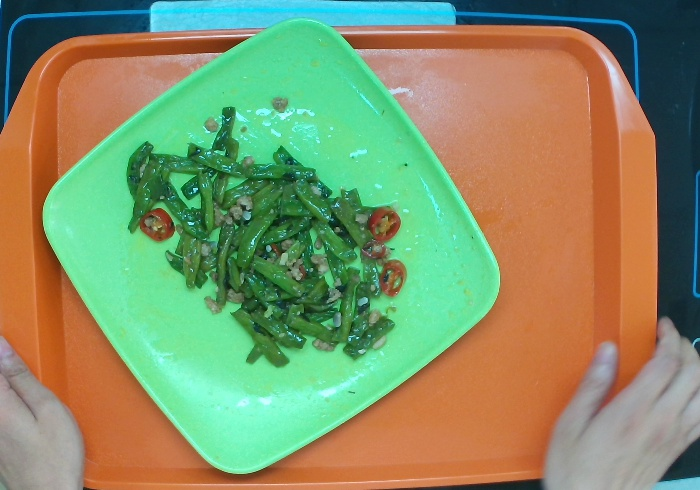ZNLD-Lv_Fang_Pan: (45, 17, 502, 476)
